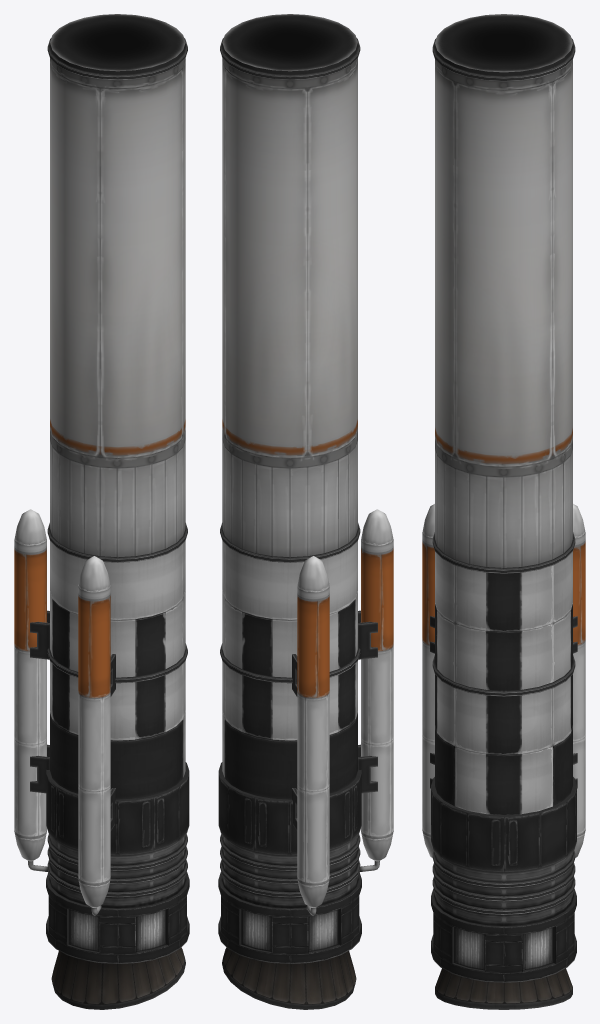
Rendered from Soltan_Radial.dae.
3 renders of one model, left to right at view 1: azimuth 30°, elevation 25°; view 2: azimuth 150°, elevation 25°; view 3: azimuth 270°, elevation 25°, orthographic.
Visible parts, largest first — view 1: Soltan_Radial2; view 2: Soltan_Radial2; view 3: Soltan_Radial2.
Part boxes in pixels (x1,y1,x2,y2): Soltan_Radial2: (14, 14, 189, 1009); Soltan_Radial2: (218, 14, 393, 1009); Soltan_Radial2: (422, 14, 585, 1009).
Bounding box in the file's own units: 1.68 × 11.52 × 1.77.
